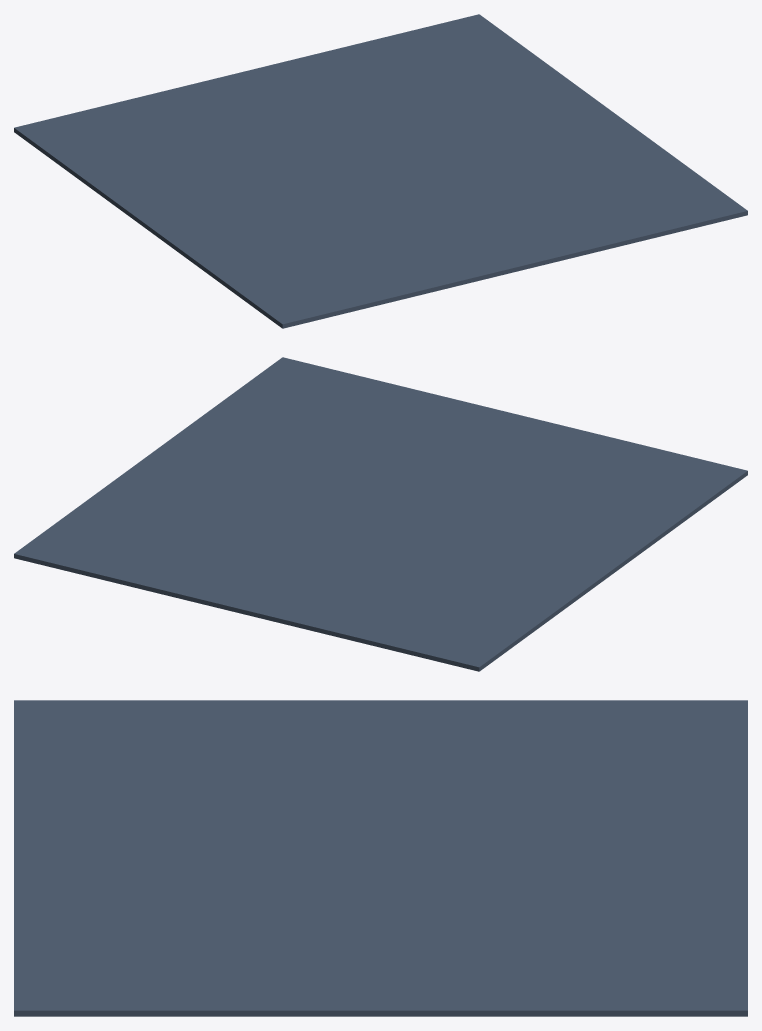
The model's file is floor_geometry.obj.
The picture shows the model from 3 angles, top to bottom: view 1: azimuth 30°, elevation 25°; view 2: azimuth 150°, elevation 25°; view 3: azimuth 270°, elevation 25°; orthographic projection. The views are drawn at different scales.
Visible parts, largest first — view 1: Floor_001_f_249bb49a08, Floor_006_f_e170159e5f, Floor_003_f_dcc26b8fc9, Floor_011_f_6eb72e38c7, Floor_008_f_adb50caf84, Floor_007_f_adb50caf84, Floor_002_f_249bb49a08, Floor_009_f_adb50caf84, Floor_010_f_6eb72e38c7; view 2: Floor_001_f_249bb49a08, Floor_006_f_e170159e5f, Floor_003_f_dcc26b8fc9, Floor_011_f_6eb72e38c7, Floor_008_f_adb50caf84, Floor_009_f_adb50caf84, Floor_010_f_6eb72e38c7, Floor_007_f_adb50caf84, Floor_002_f_249bb49a08; view 3: Floor_001_f_249bb49a08, Floor_006_f_e170159e5f, Floor_003_f_dcc26b8fc9, Floor_011_f_6eb72e38c7, Floor_008_f_adb50caf84, Floor_005_f_e170159e5f, Floor_004_f_dcc26b8fc9, Floor_002_f_249bb49a08, Floor_007_f_adb50caf84, Floor_009_f_adb50caf84, Floor_010_f_6eb72e38c7.
Boxes of the visible parts, box(x1,y1,x2,y2) form: Floor_001_f_249bb49a08: box(14, 66, 413, 239); Floor_006_f_e170159e5f: box(351, 122, 747, 282); Floor_003_f_dcc26b8fc9: box(161, 191, 465, 328); Floor_011_f_6eb72e38c7: box(366, 14, 626, 149); Floor_008_f_adb50caf84: box(273, 43, 507, 172); Floor_007_f_adb50caf84: box(270, 64, 420, 173); Floor_002_f_249bb49a08: box(267, 65, 417, 173); Floor_009_f_adb50caf84: box(360, 42, 510, 151); Floor_010_f_6eb72e38c7: box(363, 42, 513, 150); Floor_001_f_249bb49a08: box(226, 497, 626, 671); Floor_006_f_e170159e5f: box(162, 357, 558, 512); Floor_003_f_dcc26b8fc9: box(444, 426, 747, 563); Floor_011_f_6eb72e38c7: box(14, 446, 274, 585); Floor_008_f_adb50caf84: box(133, 475, 367, 608); Floor_009_f_adb50caf84: box(130, 474, 280, 587); Floor_010_f_6eb72e38c7: box(127, 473, 277, 586); Floor_007_f_adb50caf84: box(220, 496, 370, 608); Floor_002_f_249bb49a08: box(223, 497, 373, 609); Floor_001_f_249bb49a08: box(344, 700, 747, 868); Floor_006_f_e170159e5f: box(14, 826, 344, 1016); Floor_003_f_dcc26b8fc9: box(14, 700, 344, 822); Floor_011_f_6eb72e38c7: box(344, 935, 747, 1016); Floor_008_f_adb50caf84: box(344, 873, 747, 930); Floor_005_f_e170159e5f: box(14, 824, 344, 826); Floor_004_f_dcc26b8fc9: box(14, 822, 344, 824); Floor_002_f_249bb49a08: box(344, 869, 747, 870); Floor_007_f_adb50caf84: box(344, 871, 747, 872); Floor_009_f_adb50caf84: box(344, 931, 747, 932); Floor_010_f_6eb72e38c7: box(344, 933, 747, 934).
Size of the model in its own units: 22 by 0.2 by 22.
